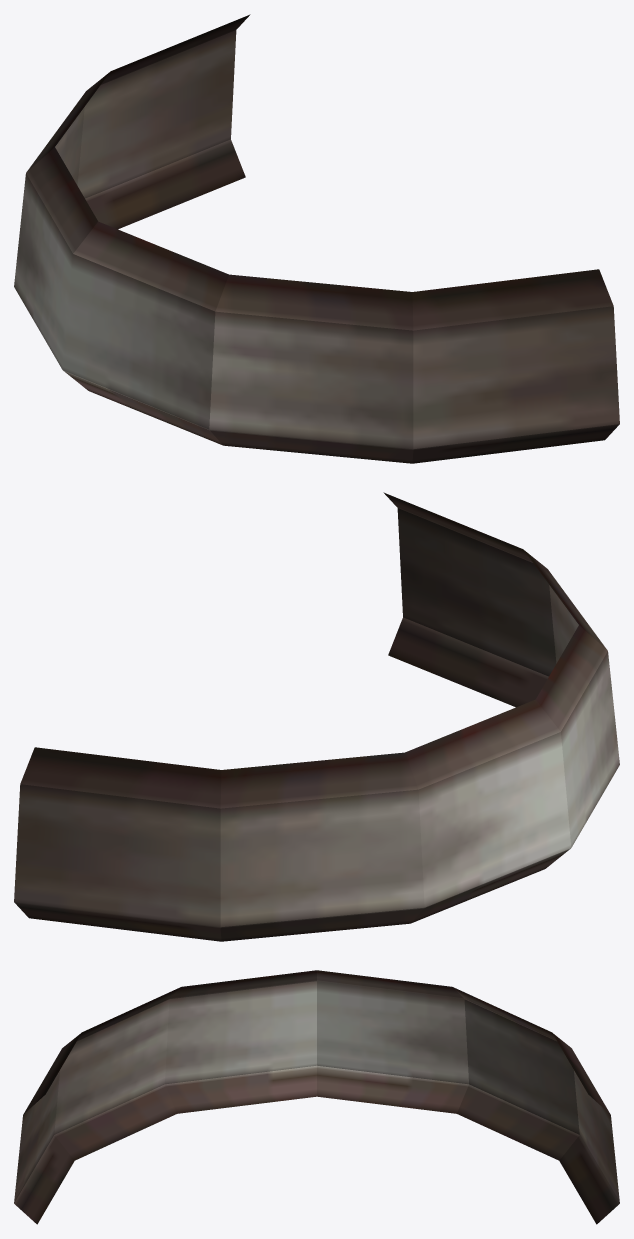
Rendered from Wolf_simpleBandana.obj.
3 renders of one model, top to bottom at view 1: azimuth 30°, elevation 25°; view 2: azimuth 150°, elevation 25°; view 3: azimuth 270°, elevation 25°, orthographic. The views are drawn at different scales.
Parts seen in each view (by area): view 1: Wolf_simpleBandana_tri; view 2: Wolf_simpleBandana_tri; view 3: Wolf_simpleBandana_tri.
Boxes of the visible parts, box(x1,y1,x2,y2) form: Wolf_simpleBandana_tri: box(14, 14, 619, 463); Wolf_simpleBandana_tri: box(14, 492, 619, 941); Wolf_simpleBandana_tri: box(14, 970, 619, 1224).
Size of the model in its own units: 0.1162 by 0.0512 by 0.2158.
1 material, 1 textured.
